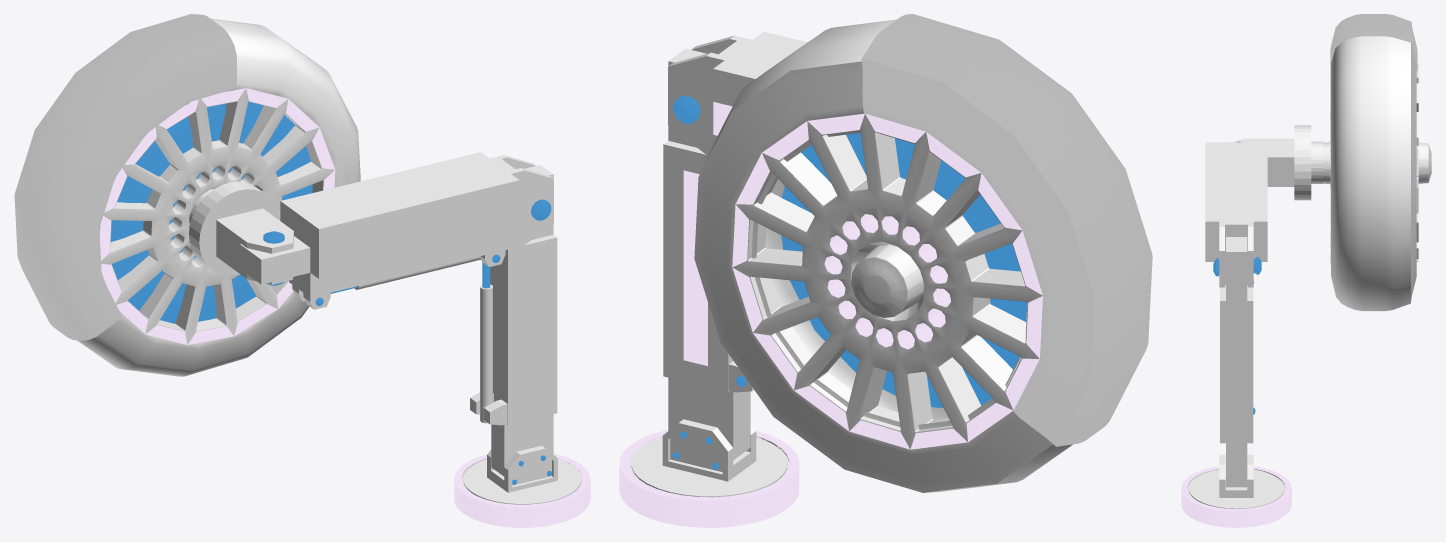
3 renders of one model, left to right at view 1: azimuth 30°, elevation 25°; view 2: azimuth 150°, elevation 25°; view 3: azimuth 270°, elevation 25°, orthographic. The views are drawn at different scales.
Visible parts, largest first — view 1: ban_2.010, ban_2.015, Plane.025, Cube.004, ban_2.011, Plane.024, Circle.042, Circle.043, Plane.029, Cylinder.009, Plane.026; view 2: ban_2.010, ban_2.016, Cube.004, Plane.024, Plane.025, Circle.042, ban_2.011, Circle.054; view 3: ban_2.010, Cube.004, Plane.025, Plane.024, Circle.042, Circle.043, Plane.029, ban_2.016, ban_2.015.
Boxes of the visible parts, left/top/right/bottom form: ban_2.010: left=14, top=14, right=360, bottom=376; ban_2.015: left=99, top=88, right=335, bottom=345; Plane.025: left=240, top=152, right=553, bottom=297; Cube.004: left=490, top=165, right=557, bottom=476; ban_2.011: left=99, top=90, right=312, bottom=323; Plane.024: left=461, top=445, right=582, bottom=504; Circle.042: left=454, top=453, right=590, bottom=527; Circle.043: left=188, top=181, right=279, bottom=275; Plane.029: left=216, top=208, right=293, bottom=284; Cylinder.009: left=480, top=284, right=492, bottom=423; Plane.026: left=470, top=392, right=507, bottom=425; ban_2.010: left=694, top=14, right=1152, bottom=492; ban_2.016: left=732, top=113, right=1042, bottom=449; Cube.004: left=663, top=48, right=750, bottom=459; Plane.024: left=629, top=419, right=789, bottom=497; Plane.025: left=668, top=31, right=807, bottom=154; Circle.042: left=619, top=429, right=799, bottom=527; ban_2.011: left=781, top=133, right=1027, bottom=407; Circle.054: left=673, top=96, right=700, bottom=123; ban_2.010: left=1330, top=14, right=1417, bottom=311; Cube.004: left=1220, top=237, right=1253, bottom=487; Plane.025: left=1205, top=142, right=1267, bottom=287; Plane.024: left=1187, top=454, right=1285, bottom=508; Circle.042: left=1181, top=465, right=1291, bottom=527; Circle.043: left=1294, top=125, right=1323, bottom=200; Plane.029: left=1231, top=138, right=1294, bottom=186; ban_2.016: left=1416, top=64, right=1431, bottom=261; ban_2.015: left=1323, top=71, right=1330, bottom=262.
Bounding box in the file's own units: 22.69 × 21.78 × 13.01.
